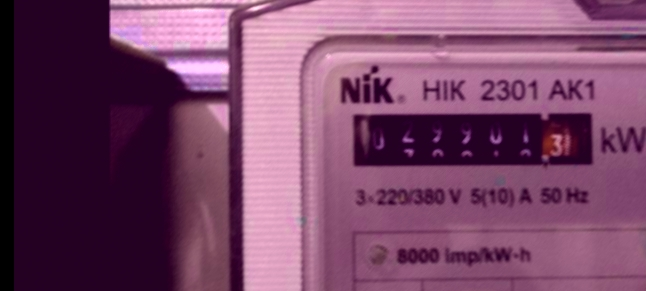0: (369, 123, 387, 150), (488, 116, 504, 145)
1: (519, 115, 532, 143)
2: (399, 117, 417, 144)
3: (548, 130, 565, 156)
9: (429, 117, 445, 144), (460, 117, 473, 144)
screen: (344, 102, 604, 175)
